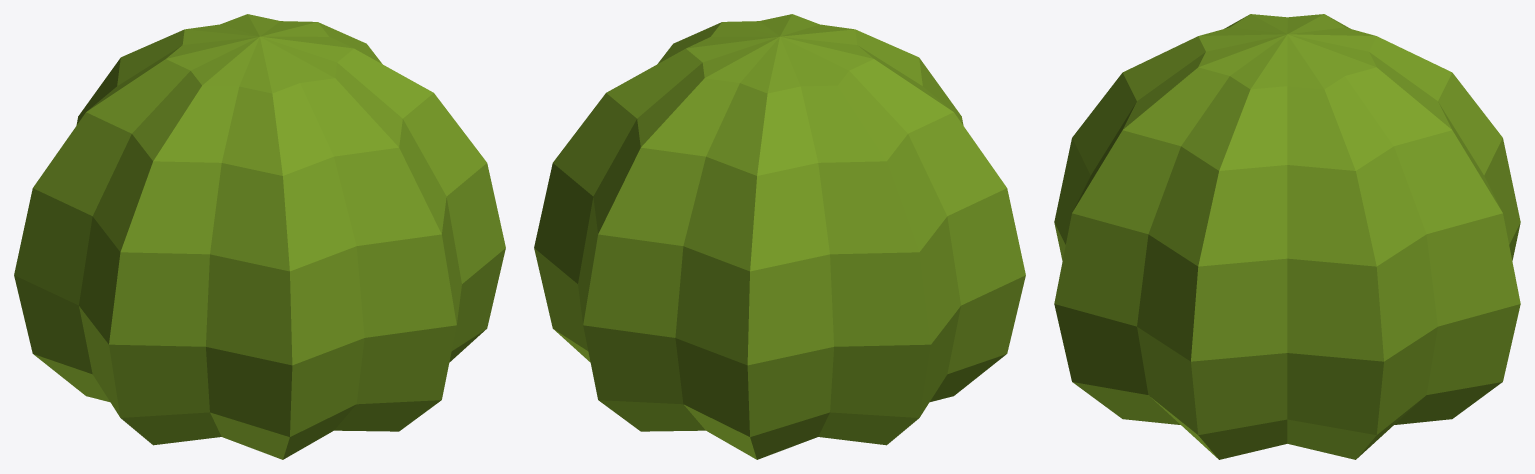
Rendered from Cactus_12_A.fbx.
3 views of the same model, side by side, from view 1: azimuth 30°, elevation 25°; view 2: azimuth 150°, elevation 25°; view 3: azimuth 270°, elevation 25° (orthographic).
Visible parts, largest first — view 1: Cactus_12_A; view 2: Cactus_12_A; view 3: Cactus_12_A.
Boxes of the visible parts, x1,y1,x2,y2 form: Cactus_12_A: (14,14,505,459); Cactus_12_A: (534,14,1025,459); Cactus_12_A: (1054,14,1520,459).
Bounding box in the file's own units: 86.81 × 75.88 × 86.81.
